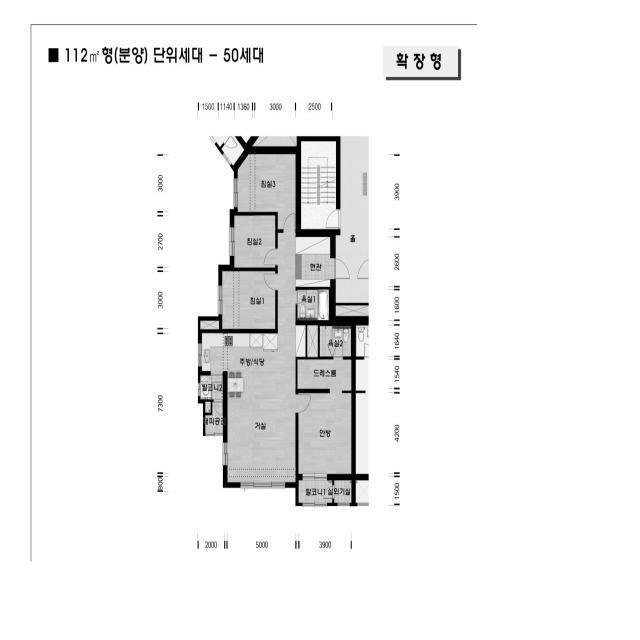space_balconi: (298, 481, 332, 503), (200, 375, 223, 399)
space_bedroom: (238, 154, 296, 230), (298, 393, 352, 474), (222, 271, 275, 329), (234, 216, 275, 268)
space_dressroom: (298, 360, 351, 393)
space_elevator_hall: (336, 136, 369, 303)
space_front: (296, 237, 334, 287)
space_kitchen: (202, 333, 278, 398)
space_living_room: (227, 233, 306, 482)
space_other: (205, 402, 223, 432), (307, 325, 318, 357), (336, 306, 369, 316), (200, 321, 219, 329), (205, 402, 211, 413)
space_outdoor_room: (334, 481, 352, 503)
space_staircase: (301, 141, 339, 229)
space_toilet: (297, 290, 329, 321), (320, 326, 351, 357)
